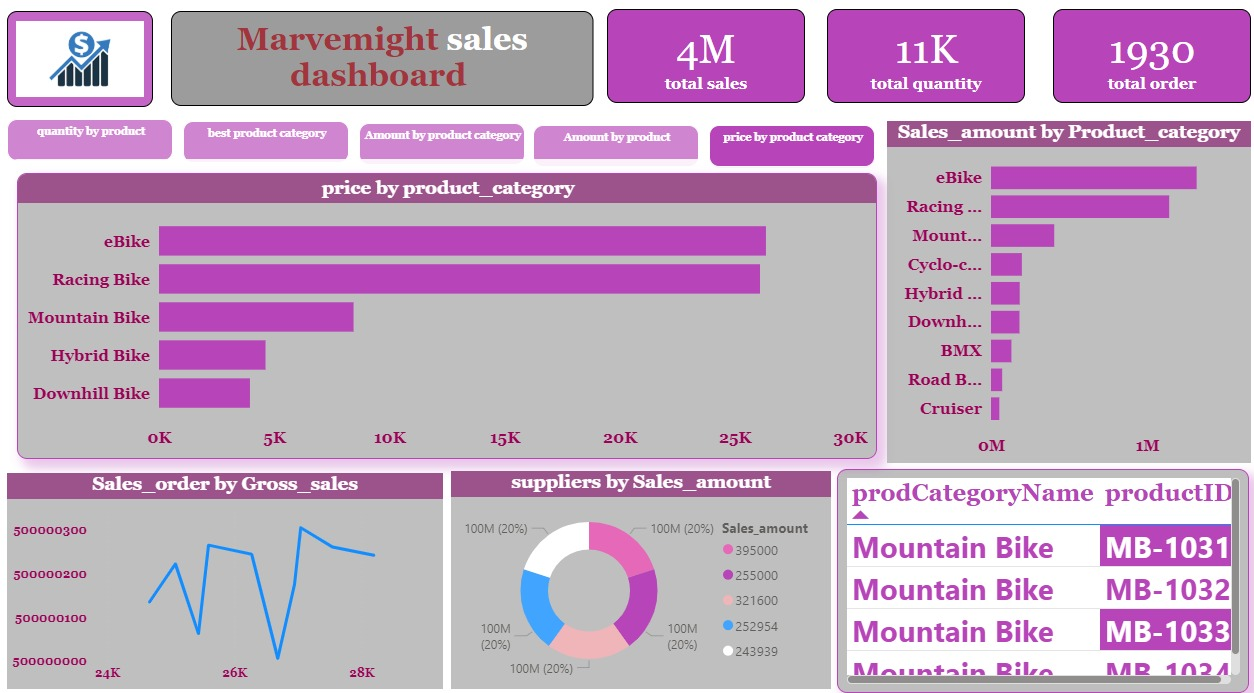

The page's visual inventory and layout, read from the dashboard file:
{"tool":"powerbi","page":{"name":"product report","canvas":[1280,720],"ordinal":0},"visuals":[{"type":"group","id":"g1","title":"header","box":[18.5,14,1243.5,684],"z":0},{"type":"barChart","fields":{"Y":["Sum(Query2.price)"],"Category":["Query2.product_category"]},"box":[28,178,860,286],"z":0,"group":"g4"},{"type":"tableEx","fields":{"Values":["Query3.prodCategoryName","Query3.productID"]},"box":[848.5,474,412,224],"z":0,"group":"g1"},{"type":"actionButton","title":"price by product category","box":[720,130,166,42],"z":500,"group":"g3"},{"type":"textbox","box":[182.5,15,422.5,95],"z":1000,"group":"g1"},{"type":"group","id":"g2","title":"inactive btn","box":[18,124,868,50],"z":1000},{"type":"card","fields":{"Values":["final_project sales_order.total sales"]},"box":[618,14,198,94],"z":2000,"group":"g1"},{"type":"shape","box":[18,164,868,278],"z":2000},{"type":"actionButton","title":"price by product category","box":[720,132,166,42],"z":2500,"group":"g2"},{"type":"card","fields":{"Values":["final_project sales_order.total quantity"]},"box":[838,14,198,94],"z":3000,"group":"g1"},{"type":"group","id":"g3","title":"active btn","box":[18,122,868,50],"z":3000},{"type":"actionButton","title":"Amount by product","box":[544.5,130,166,42],"z":3000,"group":"g2"},{"type":"card","fields":{"Values":["final_project sales_order.total order"]},"box":[1064,14,198,94],"z":4000,"group":"g1"},{"type":"group","id":"g4","title":"chart","box":[20,178,870,296],"z":4000},{"type":"actionButton","title":"Amount by product category","box":[369,128,166,42],"z":4125,"group":"g2"},{"type":"actionButton","title":"best product category","box":[193.5,126,166,42],"z":4250,"group":"g2"},{"type":"actionButton","title":"quantity by product","box":[18,124,166,42],"z":4500,"group":"g2"},{"type":"image","box":[18.5,16,146,96],"z":5000,"group":"g1"},{"type":"barChart","fields":{"Category":["Query4.Product_category"],"Y":["Sum(Query4.Sales_amount)"]},"box":[898,126,364,342],"z":5000},{"type":"donutChart","fields":{"Category":["Query5.Sales_amount"],"Y":["Sum(Query5.suppliers)"]},"box":[462,476,380,218],"z":5001},{"type":"lineChart","fields":{"Category":["Query6.Gross_sales"],"Y":["Sum(Query6.Sales_order)"]},"box":[18,478,436,216],"z":5002}]}

Visuals, with their boxes in screenshot pixels (x1, y1, x2, y2), scaled from the page's 1280x720 canvas onto the 1254x693 screenshot:
"header" group: bbox=(18, 13, 1236, 672)
barChart - Sum(Query2.price) x Query2.product_category: bbox=(27, 171, 870, 447)
tableEx - Query3.prodCategoryName x Query3.productID: bbox=(831, 456, 1235, 672)
"price by product category" actionButton: bbox=(705, 125, 868, 166)
textbox: bbox=(179, 14, 593, 106)
"inactive btn" group: bbox=(18, 119, 868, 167)
card - final_project sales_order.total sales: bbox=(605, 13, 799, 104)
shape: bbox=(18, 158, 868, 425)
"price by product category" actionButton: bbox=(705, 127, 868, 167)
card - final_project sales_order.total quantity: bbox=(821, 13, 1015, 104)
"active btn" group: bbox=(18, 117, 868, 166)
"Amount by product" actionButton: bbox=(533, 125, 696, 166)
card - final_project sales_order.total order: bbox=(1042, 13, 1236, 104)
"chart" group: bbox=(20, 171, 872, 456)
"Amount by product category" actionButton: bbox=(362, 123, 524, 164)
"best product category" actionButton: bbox=(190, 121, 352, 162)
"quantity by product" actionButton: bbox=(18, 119, 180, 160)
image: bbox=(18, 15, 161, 108)
barChart - Query4.Product_category x Sum(Query4.Sales_amount): bbox=(880, 121, 1236, 450)
donutChart - Query5.Sales_amount x Sum(Query5.suppliers): bbox=(453, 458, 825, 668)
lineChart - Query6.Gross_sales x Sum(Query6.Sales_order): bbox=(18, 460, 445, 668)
